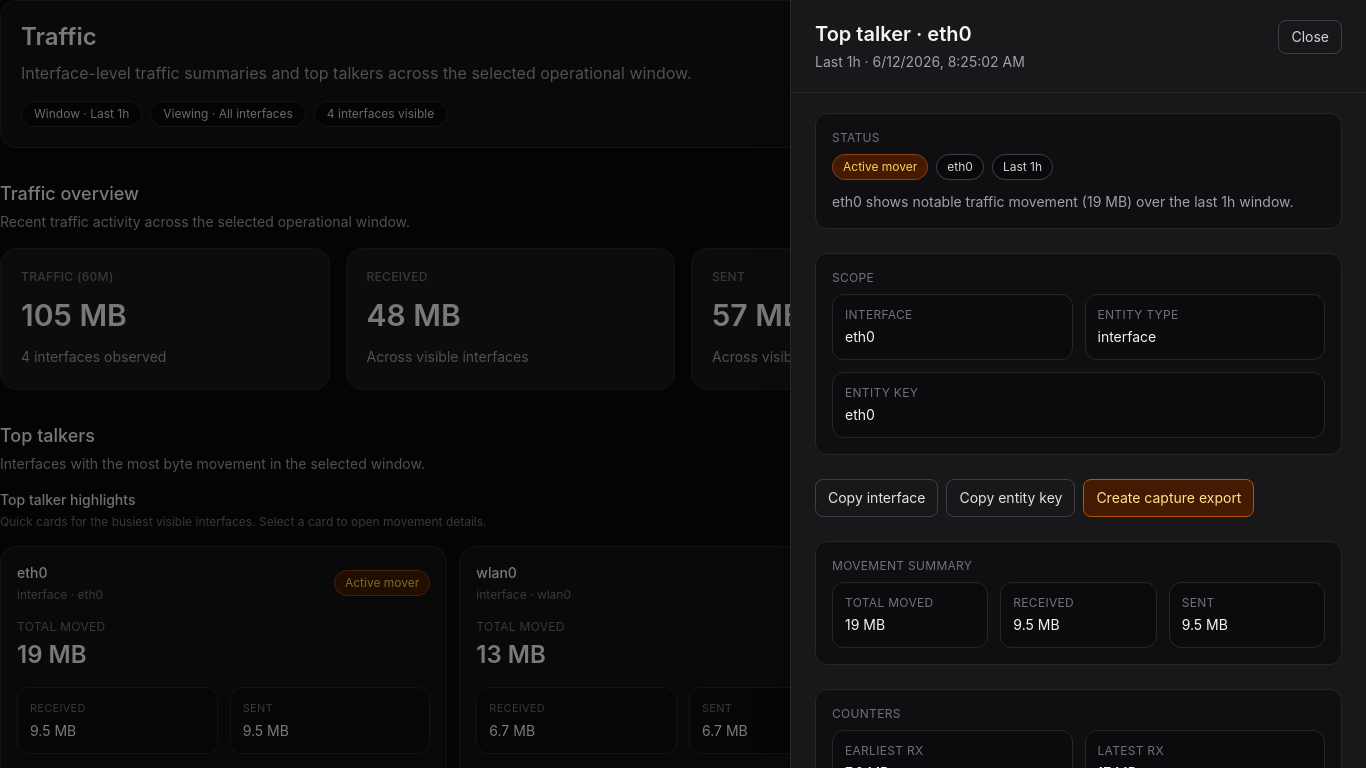
Scenario: TrafficPage › clears top talker query params when the drawer closes
This screenshot has width=1366, height=768.
Expected: the heading "Top talker · eth0" is shown, x1=815 y1=22 x2=972 y2=46
Click the button "Close". click: click(1310, 37)
box: x1=1278 y1=20 x2=1342 y2=54
(page scrolled)
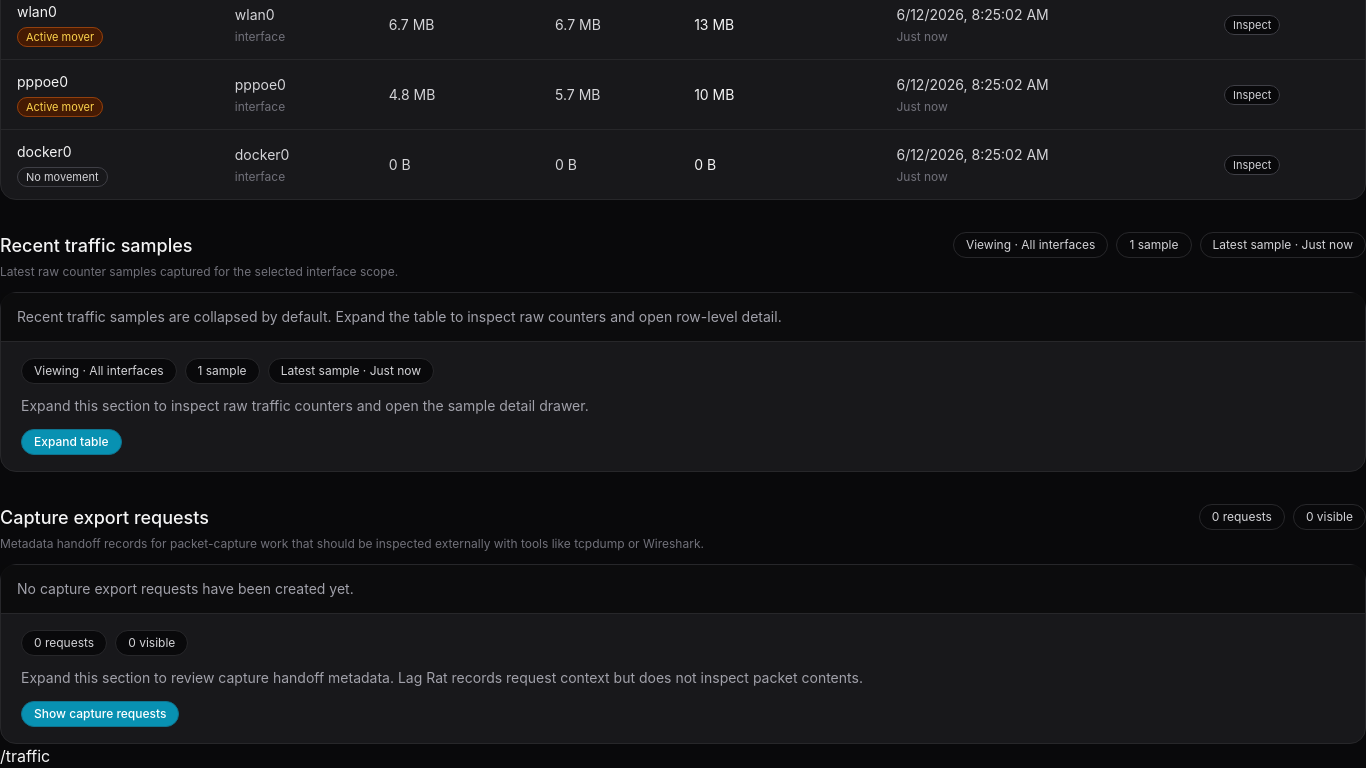
Expected: the text with test id "location-search" does not show "trafficTalkerInterface", x1=0 y1=746 x2=50 y2=766
Expected: the heading "Top talker · eth0" is gone
